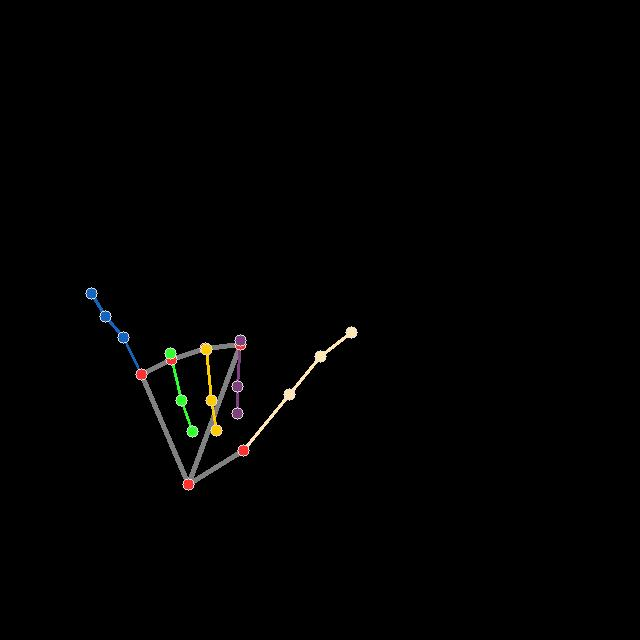skr: (83, 285, 359, 491)
